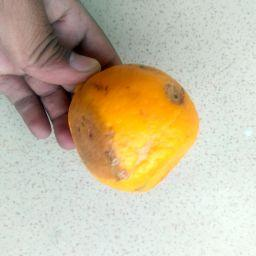Unripe: (67, 62, 201, 194)
